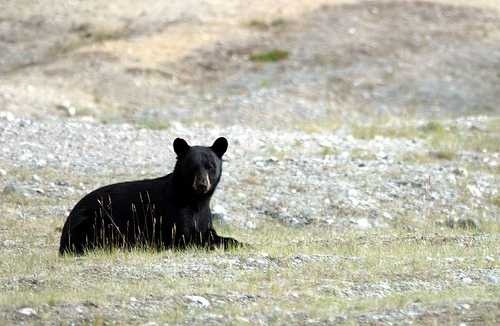bear: (129, 121, 257, 249)
